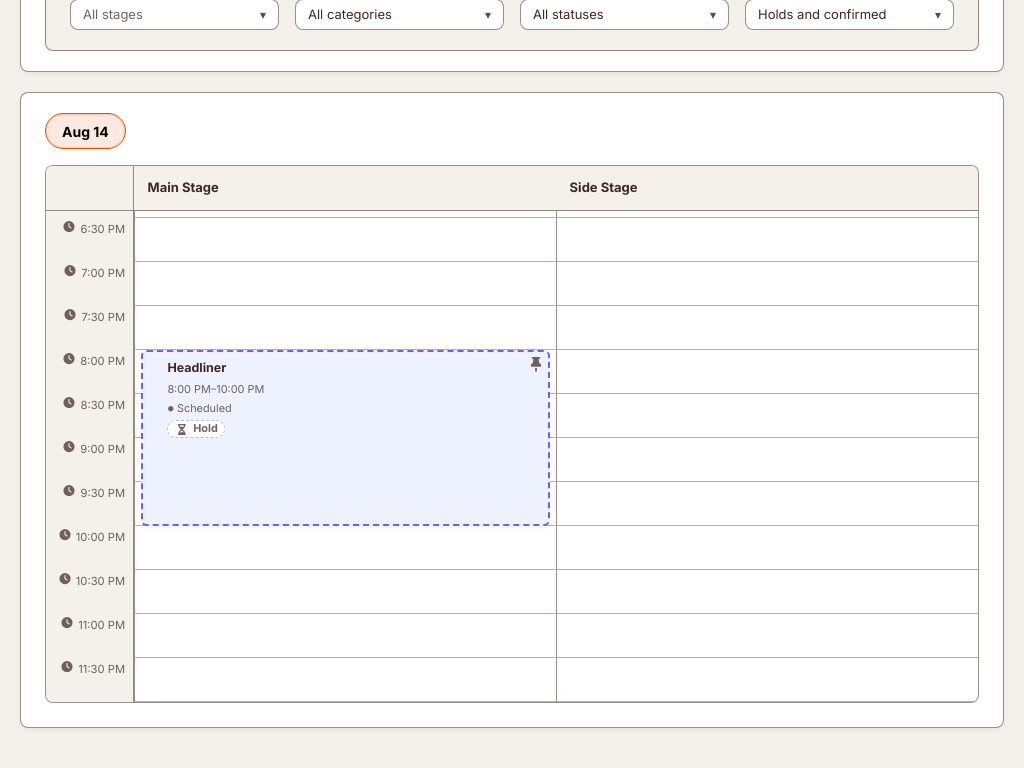
Scenario: FestivalItineraryPage › routes a rejected move to the conflict dialog and leaves the block at its prior placement
The width and height of the screenshot is (1024, 768).
(page scrolled)
Step 1. Press the mouse on the button with test id "timeline-block-block-1" → (197, 367), box [141,350,550,526]
(page scrolled)
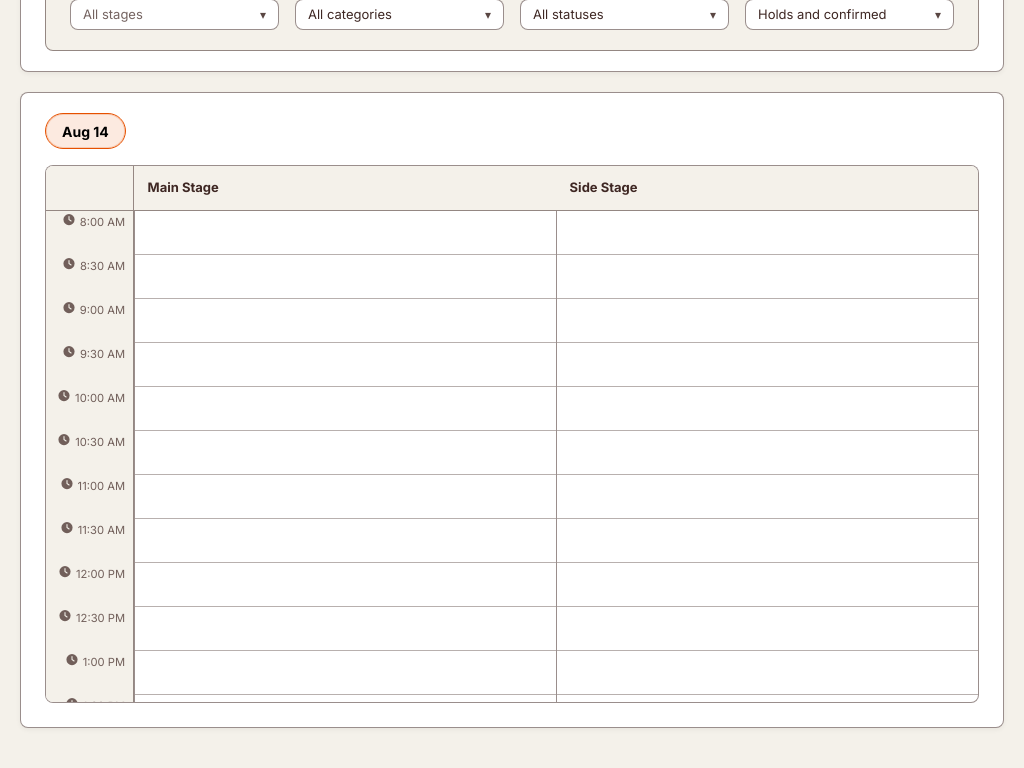
Step 2. Hover over the element with test id "timeline-slot-stage-2-10:00" → (768, 408), box [557,386,978,430]
(page scrolled)
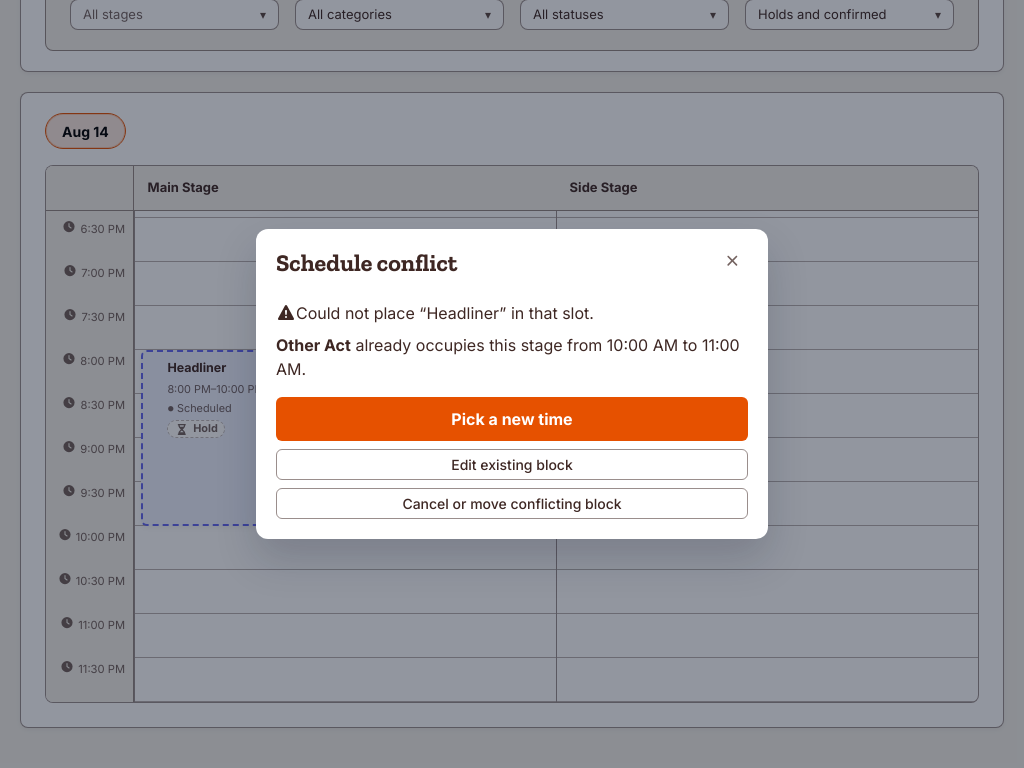
Expected: the text "Other Act" is shown, [276,335,351,355]
